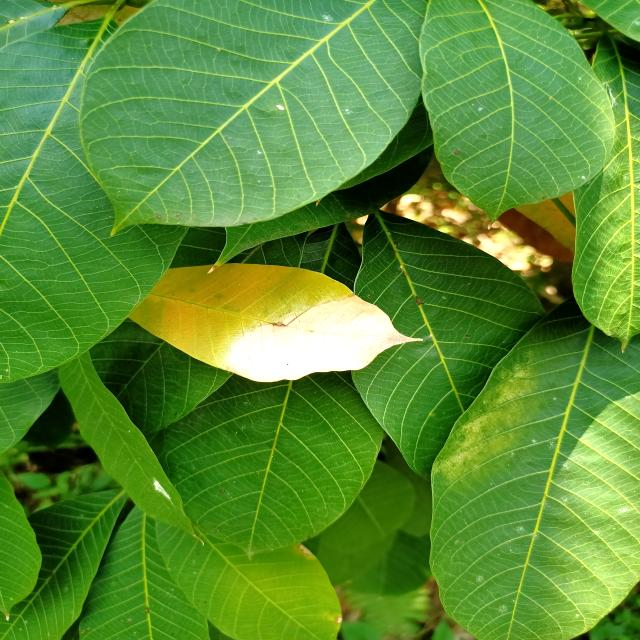Leaf-Blight: (227, 294, 424, 382)
